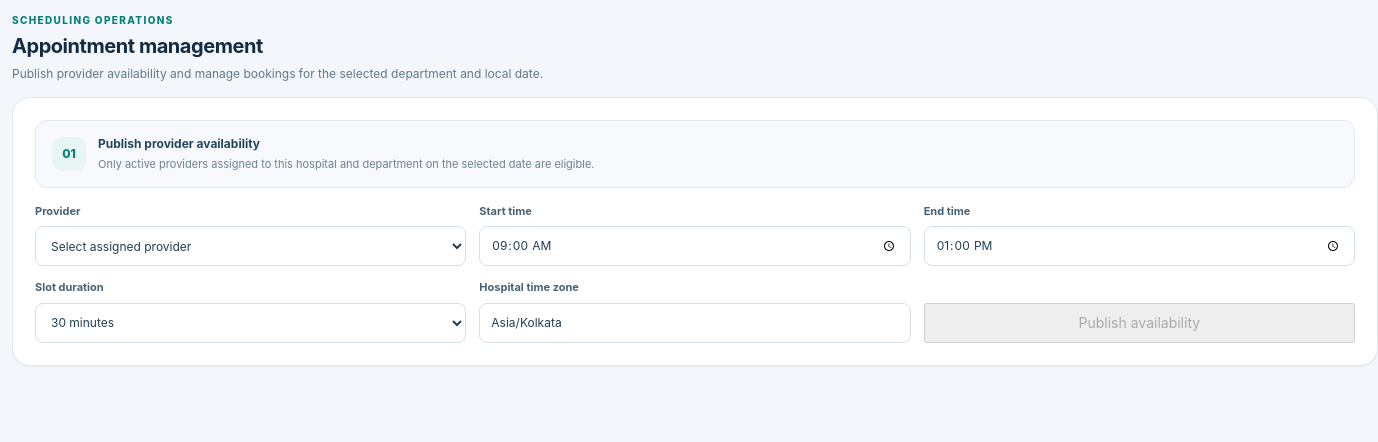
Scenario: appointment management workspace › publishes availability only for a provider assigned to the selected hospital and department
This screenshot has width=1378, height=442.
Select "Asha Patil · Consultant" in the dropdown labelled "Provider": (251, 246) [35, 226, 466, 266]
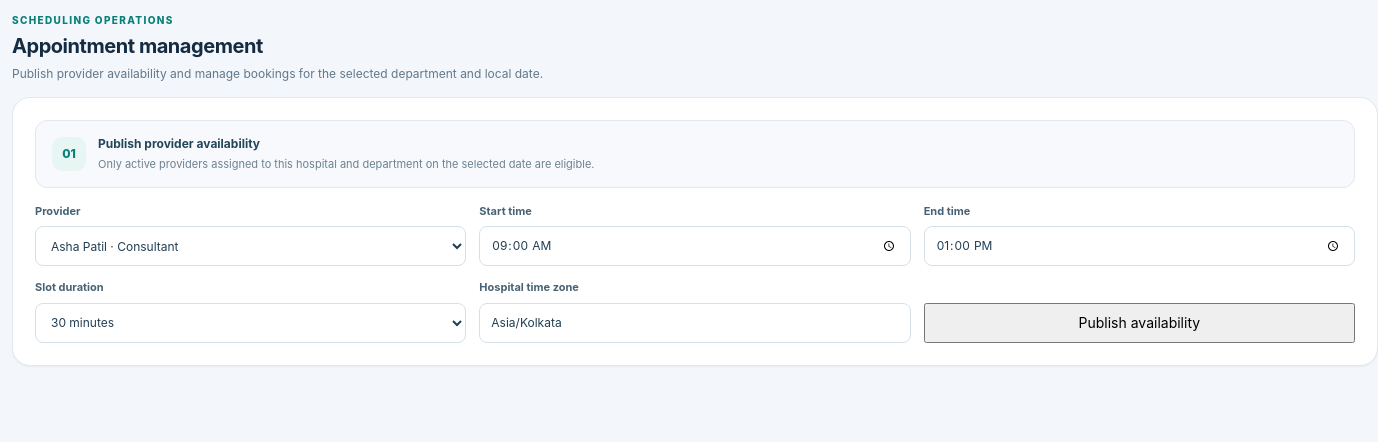
Click the button "Publish availability": click(1139, 323) [924, 303, 1355, 343]
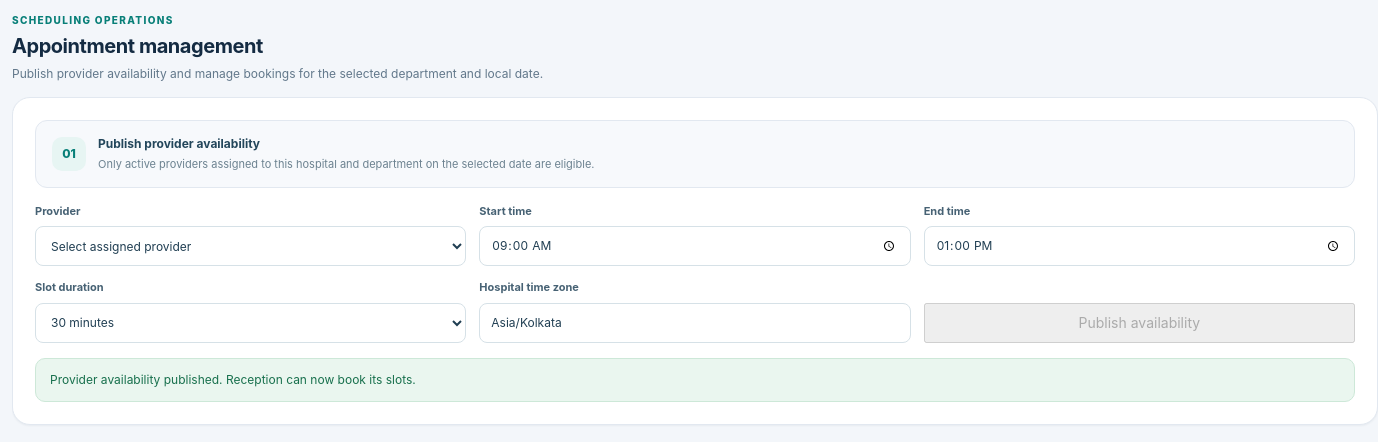
Result: the text "Provider availability published. Reception can now book its slots." is shown at [35, 358, 1355, 402]
